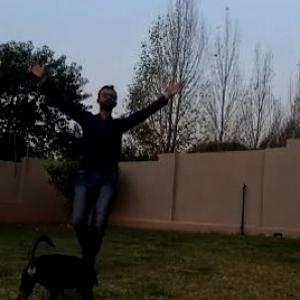takeoff: (0, 47, 187, 279)
